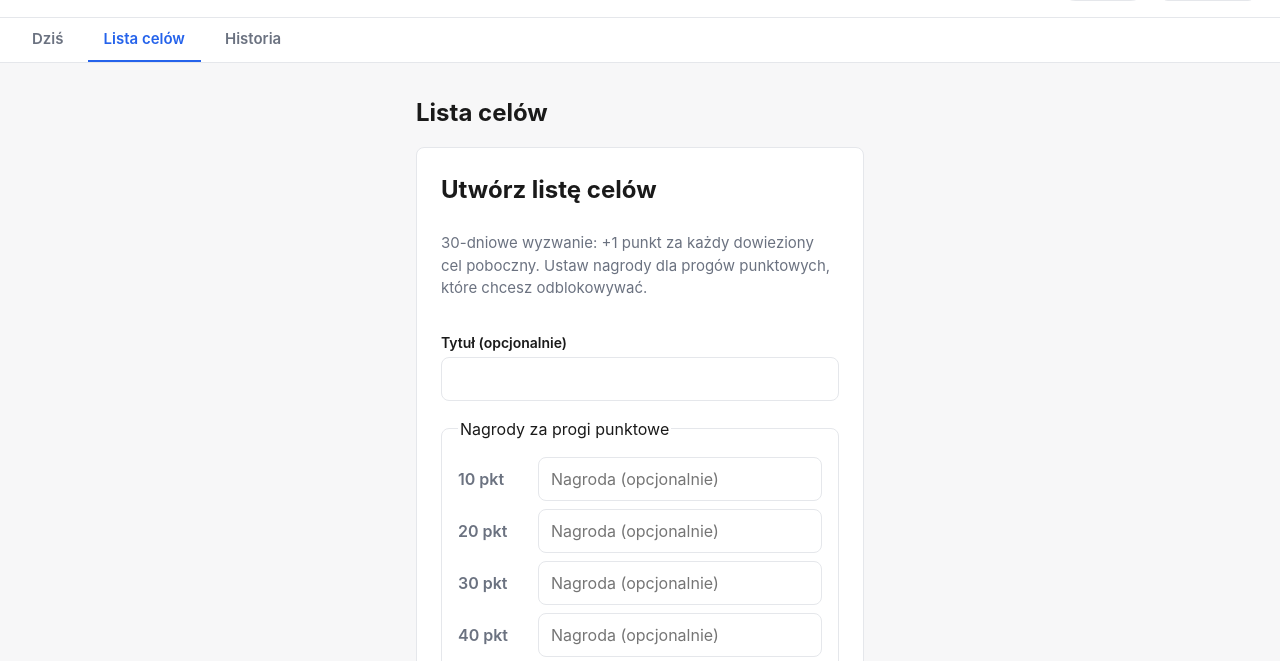
ChallengePage (FE-P2/P3) › tworzenie: wpisuje nagrodę + tytuł → createChallenge z payloadem, HUB pokazuje aktywną
Expected: the heading "Utwórz listę celów" is shown, [441,175,656,204]
Type "Lipiec" into the field labelled "Tytuł (opcjonalnie)" at (640, 378), box [441,356,839,400]
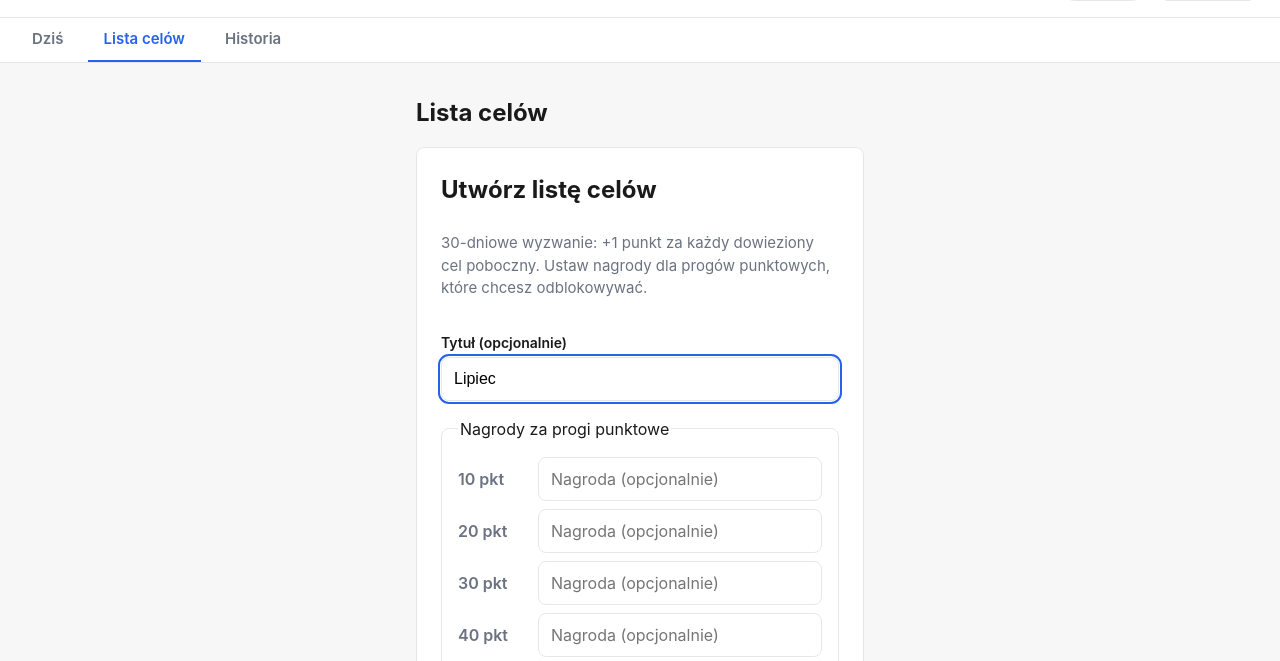
Type "Kino" into the field labelled "10 pkt" at (680, 478), box [538,456,822,500]
(page scrolled)
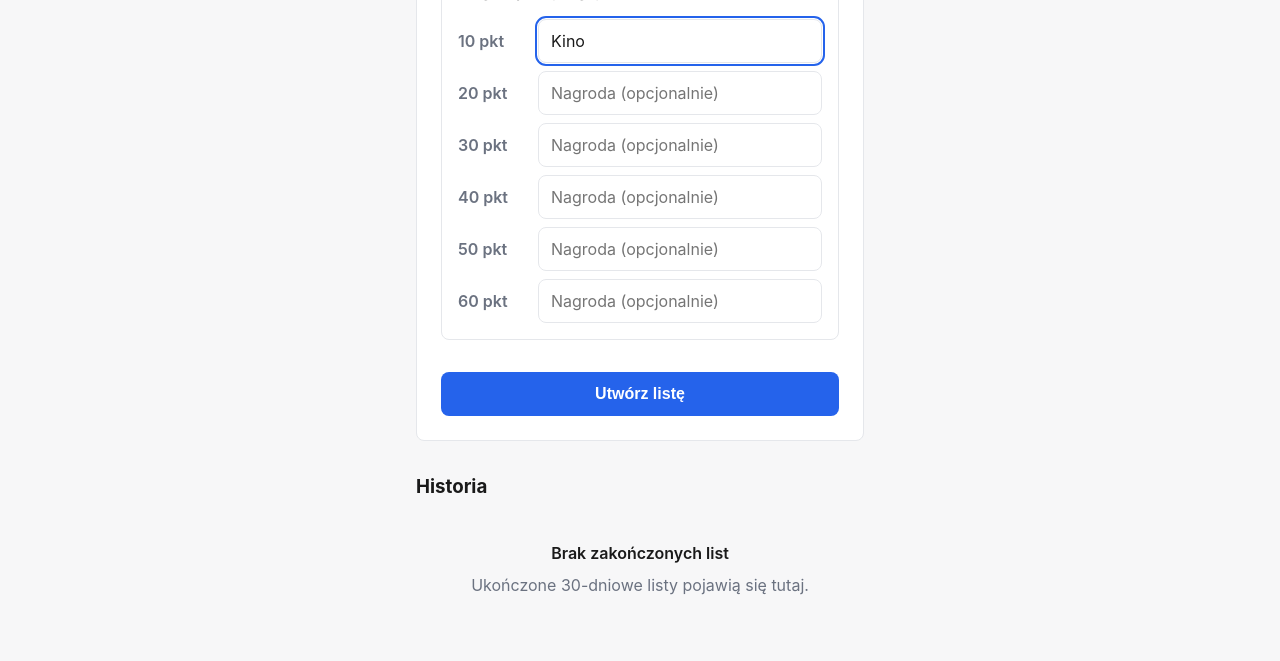
Click the button "Utwórz listę" at (640, 394), box [441,372,839,416]
(page scrolled)
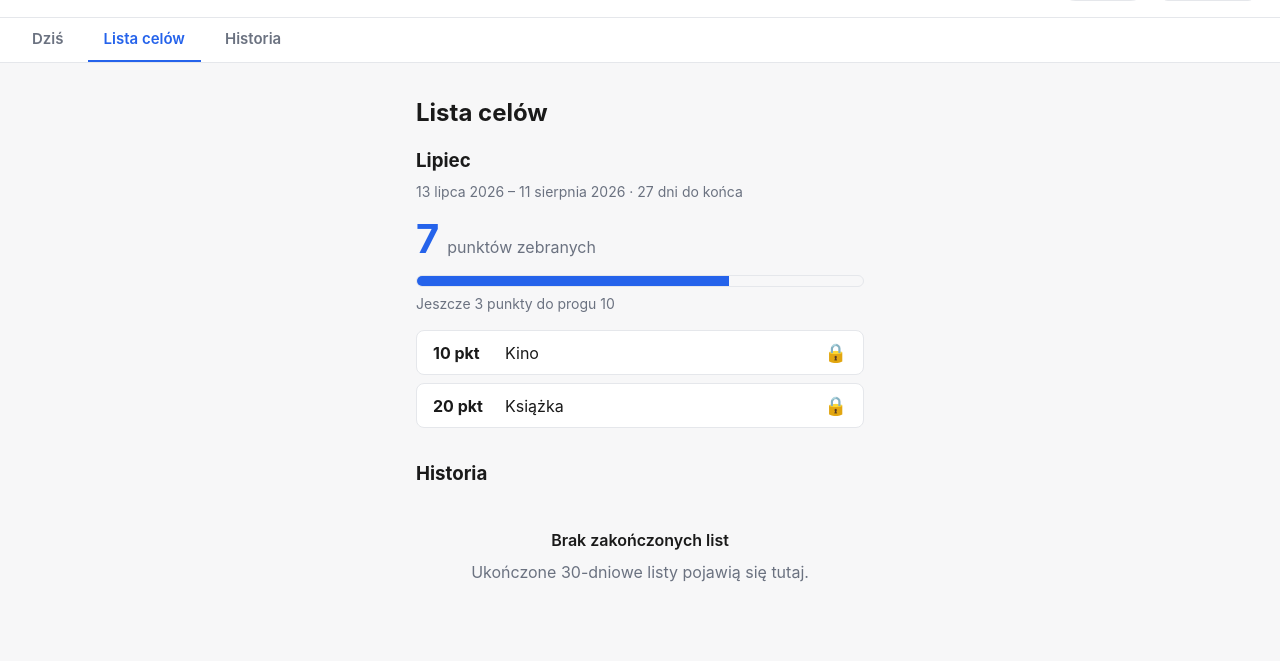
Expected: the heading "Lipiec" is shown, [416,149,471,172]
Expected: the text "7" is shown, [416,219,439,259]
